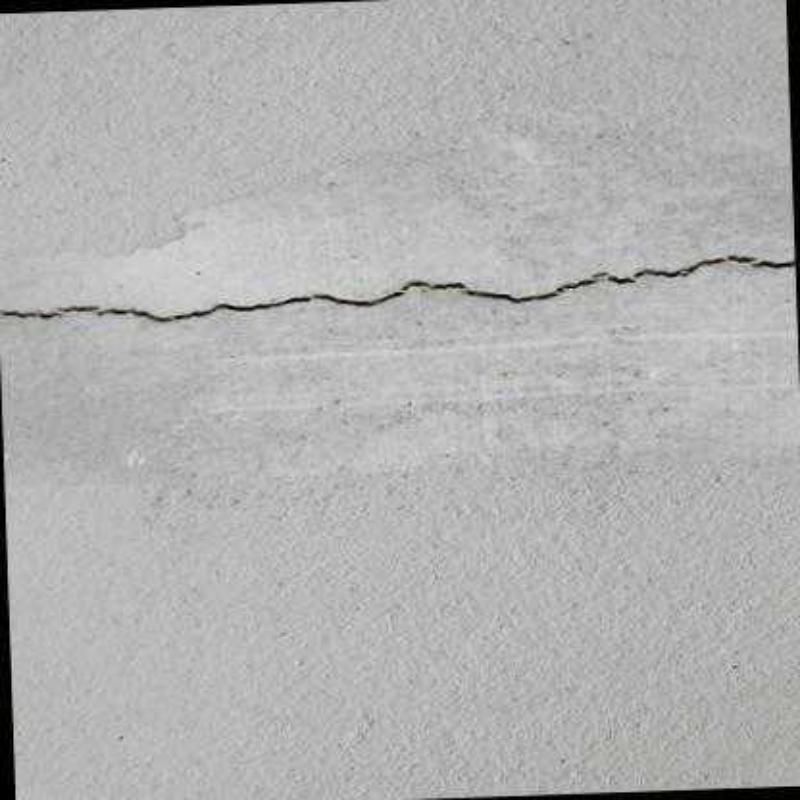crack: (0, 256, 796, 323)
